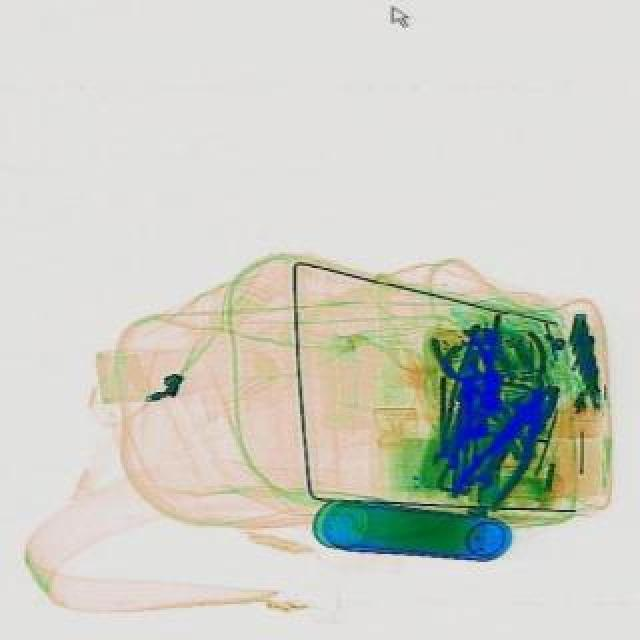wrench: (444, 372, 578, 516), (472, 324, 574, 420)
